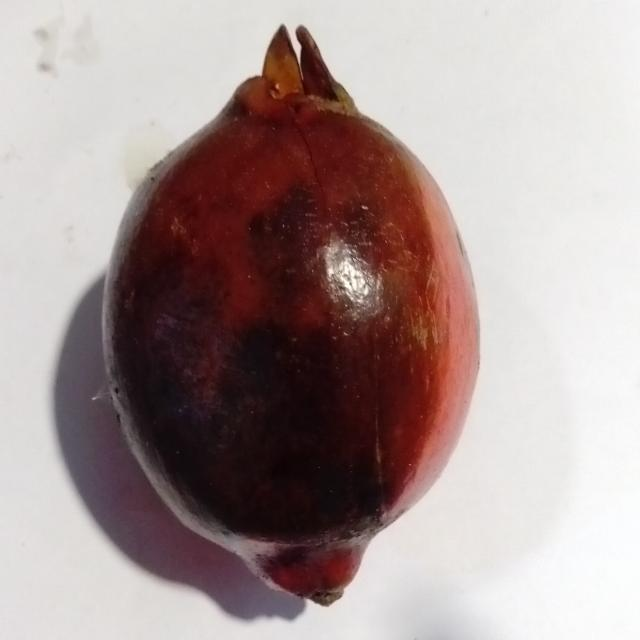Rotten: (90, 24, 483, 617)
